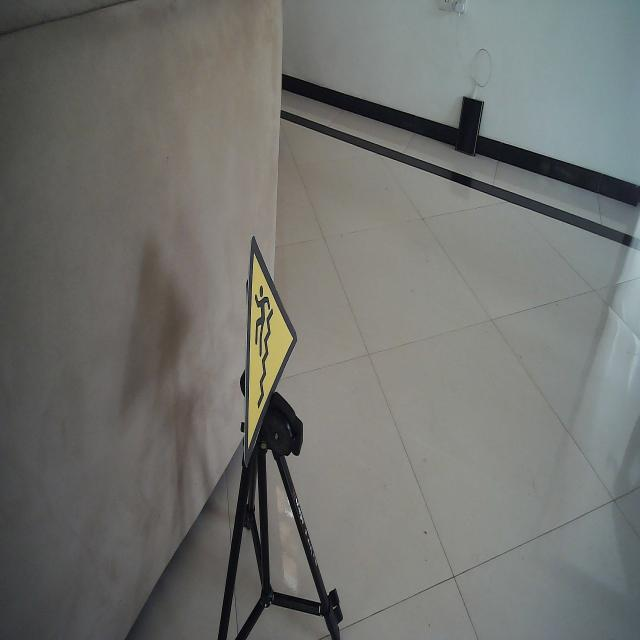stairs: (243, 230, 299, 468)
